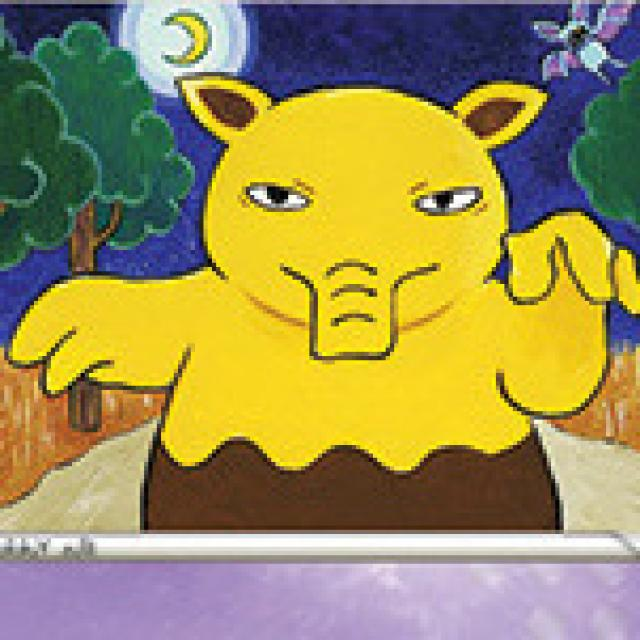Drowzee: (21, 73, 632, 529)
